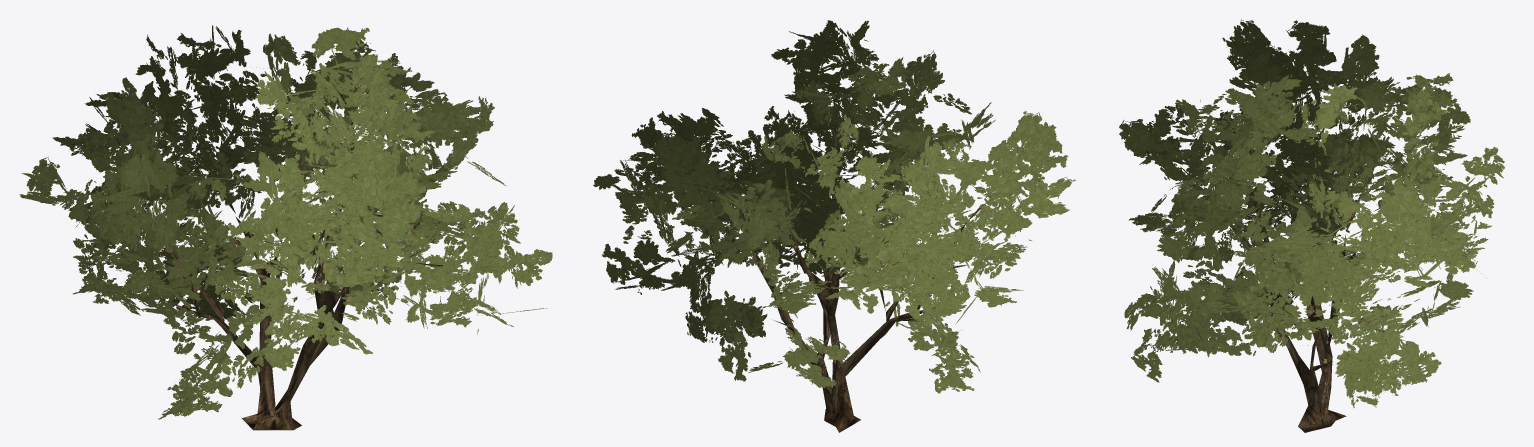
3 views of the same model, side by side, from view 1: azimuth 30°, elevation 25°; view 2: azimuth 150°, elevation 25°; view 3: azimuth 270°, elevation 25° (orthographic). The views are drawn at different scales.
Visible parts, largest first — view 1: jacaranda_tree_lod2; view 2: jacaranda_tree_lod2; view 3: jacaranda_tree_lod2.
Part boxes in pixels (<box>): jacaranda_tree_lod2: <box>19,25,552,430</box>; jacaranda_tree_lod2: <box>593,20,1075,432</box>; jacaranda_tree_lod2: <box>1119,19,1504,432</box>.
Bounding box in the file's own units: 24.49 × 19.63 × 19.54.
3 materials, 3 textured.
